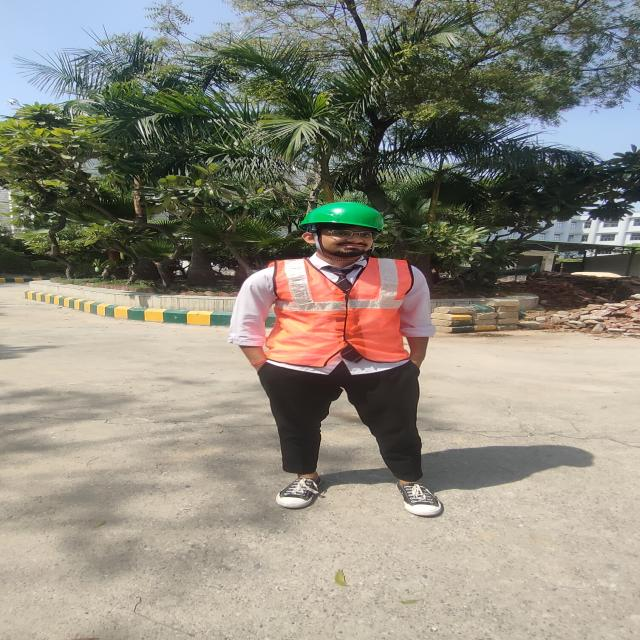safe: (238, 202, 442, 517)
